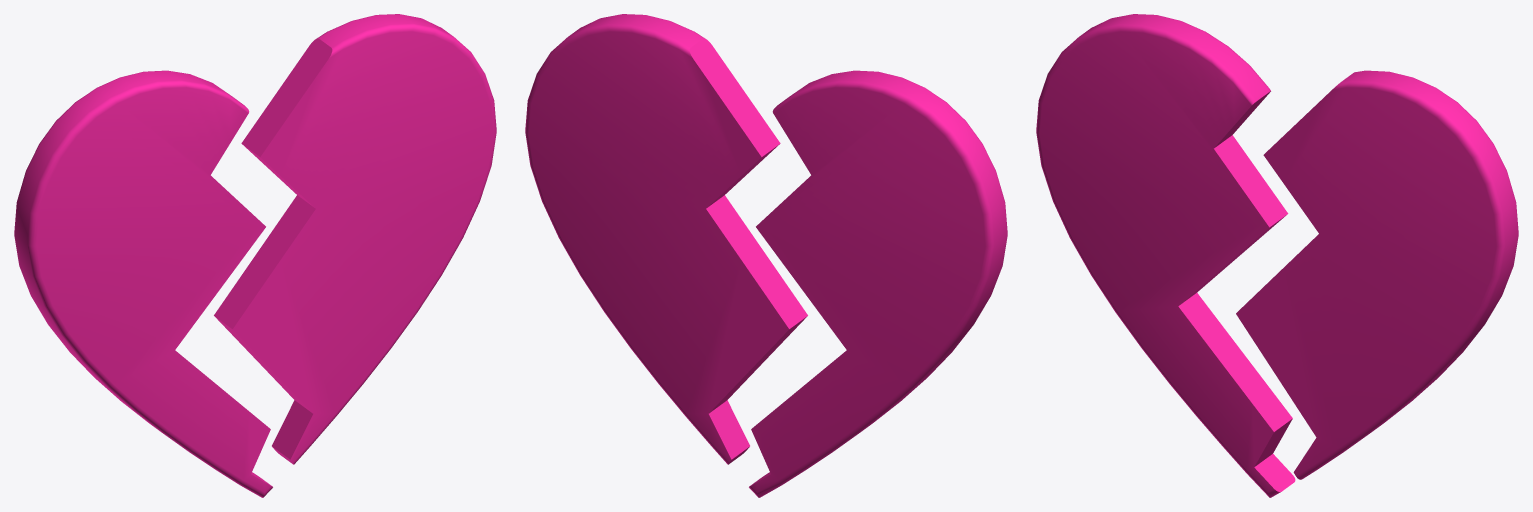
File: broken heart.fbx
The picture shows the model from 3 angles, left to right: view 1: azimuth 30°, elevation 25°; view 2: azimuth 150°, elevation 25°; view 3: azimuth 330°, elevation 25°; orthographic projection.
Parts seen in each view (by area): view 1: BezierCurve; view 2: BezierCurve; view 3: BezierCurve.
Boxes of the visible parts, left/top/right/bottom form: BezierCurve: left=14, top=14, right=496, bottom=497; BezierCurve: left=525, top=14, right=1007, bottom=497; BezierCurve: left=1036, top=14, right=1518, bottom=497.
Size of the model in its own units: 78.26 by 70.5 by 5.46.
